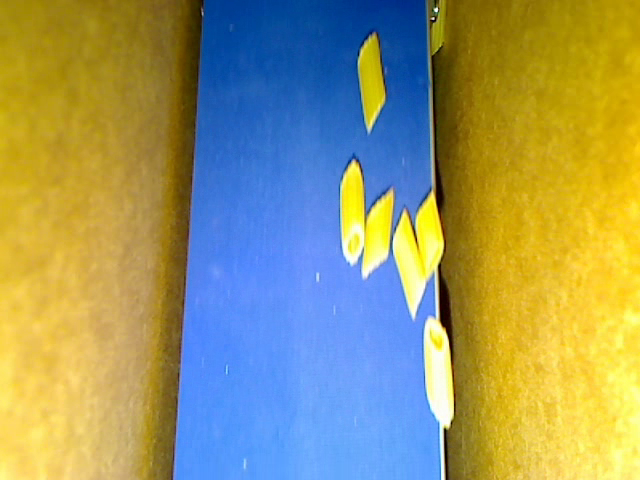penne: (392, 205, 430, 324), (421, 312, 454, 429), (352, 33, 388, 135), (361, 185, 397, 282), (338, 158, 366, 264), (417, 183, 446, 275), (425, 1, 448, 59)
